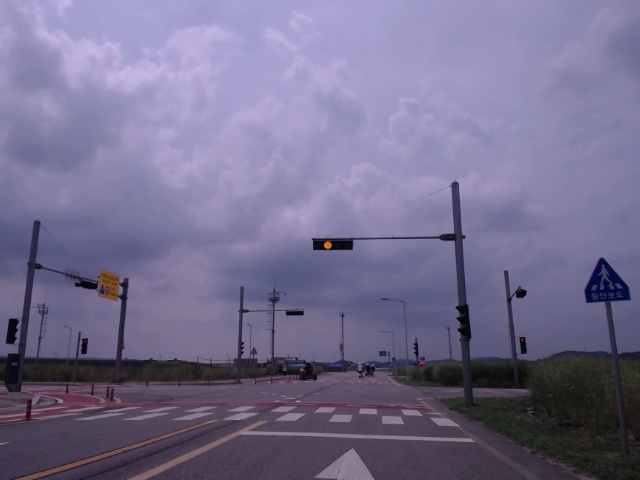orange_4: (310, 238, 354, 252)
